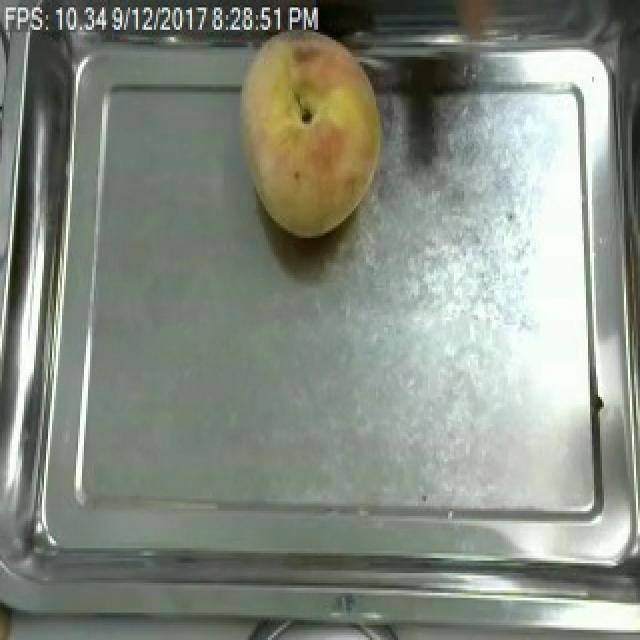Fruit: (230, 12, 392, 246)
